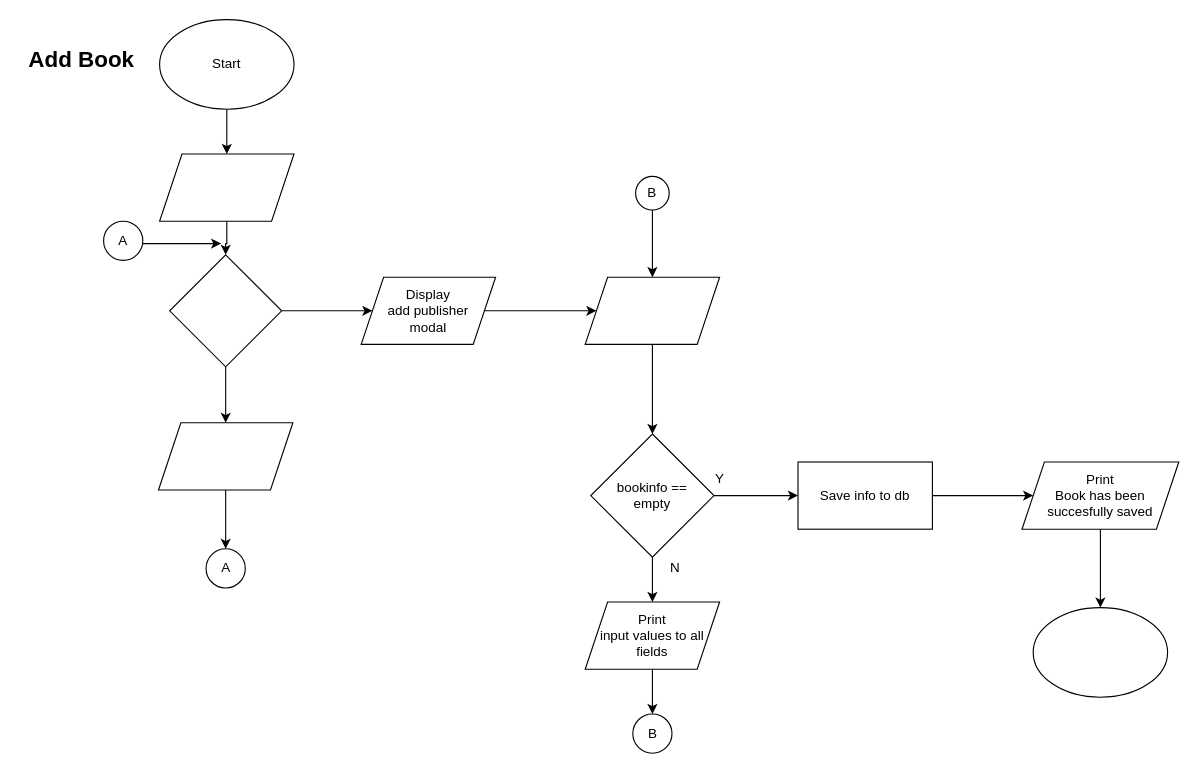
This 1198x773 diagram has some shape labels left out. Here are the shapes that lost their labels. From the top down, the box of each, then its label:
(158, 153, 294, 221): Print add books page
(169, 254, 282, 367): there is publisher in db
(584, 276, 720, 344): Insert book info
(157, 422, 293, 490): Print No publisher at the moment
(1032, 606, 1168, 697): End
